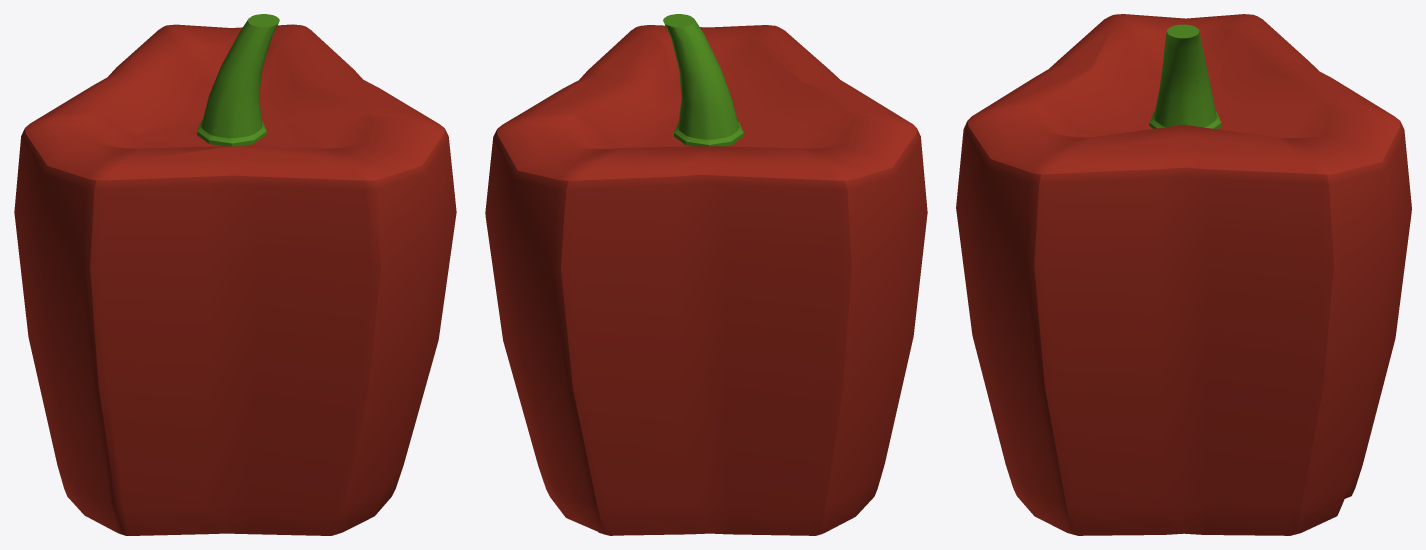
The model's file is T_Paprika_v1.fbx.
The picture shows the model from 3 angles, left to right: view 1: azimuth 30°, elevation 25°; view 2: azimuth 150°, elevation 25°; view 3: azimuth 270°, elevation 25°; orthographic projection. The views are drawn at different scales.
Visible parts, largest first — view 1: T_Paprika; view 2: T_Paprika; view 3: T_Paprika.
Boxes of the visible parts, x1,y1,x2,y2 form: T_Paprika: [14, 14, 456, 535]; T_Paprika: [485, 14, 927, 535]; T_Paprika: [956, 14, 1411, 535].
Size of the model in its own units: 1.45 by 1.84 by 1.61.
